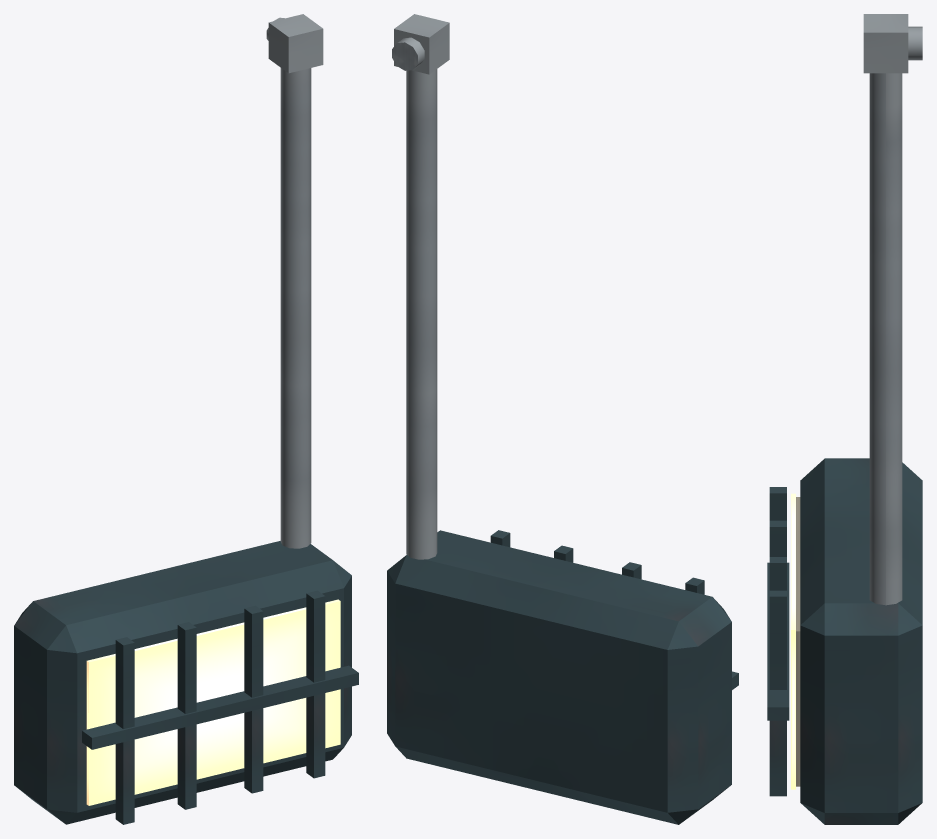
The model's file is lamp_cage_prison.fbx.
The picture shows the model from 3 angles, left to right: view 1: azimuth 30°, elevation 25°; view 2: azimuth 150°, elevation 25°; view 3: azimuth 270°, elevation 25°; orthographic projection. The views are drawn at different scales.
Parts seen in each view (by area): view 1: lamp_cage_prison, lamp_cage_prison_lens; view 2: lamp_cage_prison; view 3: lamp_cage_prison, lamp_cage_prison_lens.
Part boxes in pixels (box(x1,y1,x2,y2)): lamp_cage_prison: box(14, 14, 358, 824); lamp_cage_prison_lens: box(86, 599, 340, 805); lamp_cage_prison: box(387, 14, 738, 824); lamp_cage_prison: box(767, 14, 922, 824); lamp_cage_prison_lens: box(791, 493, 795, 789).
Bounding box in the file's own units: 0.32 × 0.7182 × 0.127.
1 material, 1 textured.
